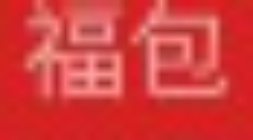TextView: (1, 1, 252, 139)
